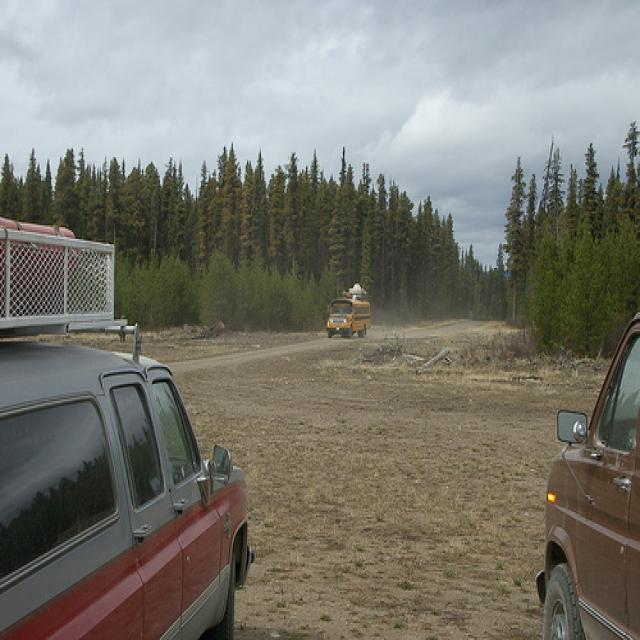bus: (324, 291, 374, 342)
car: (1, 320, 252, 639), (534, 308, 640, 639)
